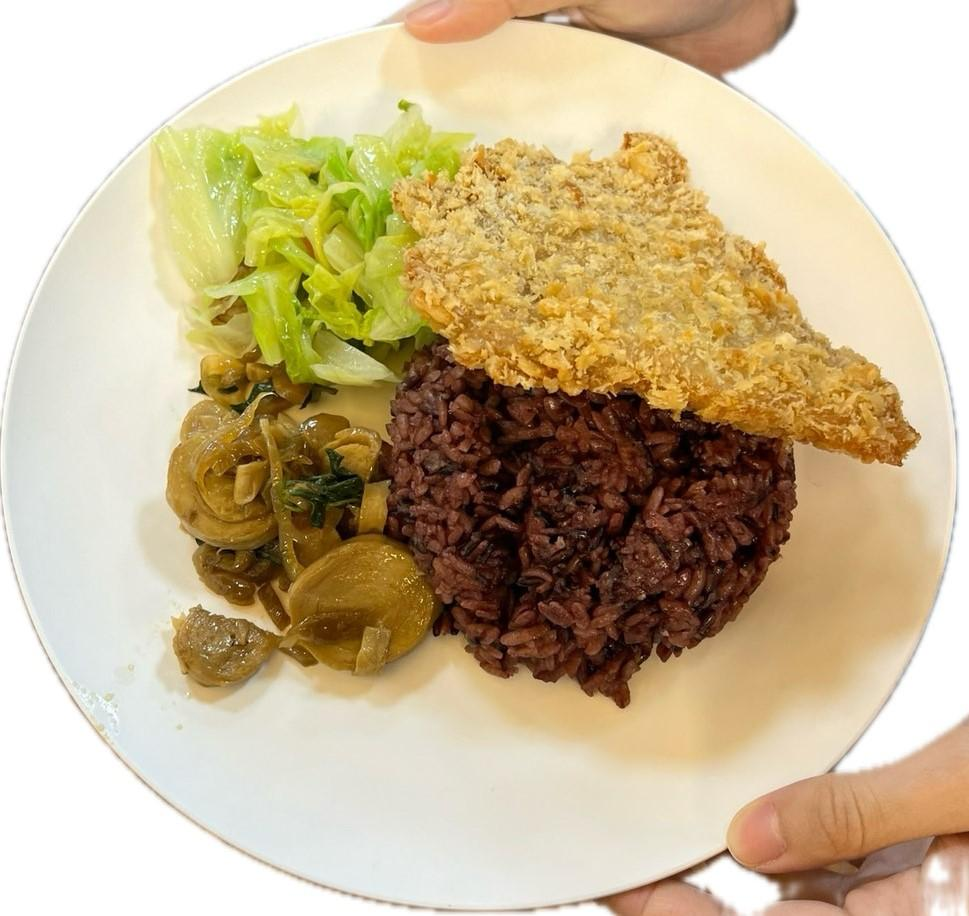big fried chicken leg: (2, 6, 969, 913)
braised fish: (400, 342, 799, 705)
braised fish fillet: (162, 350, 433, 705), (145, 96, 470, 386)
braised pork: (388, 124, 925, 476)
